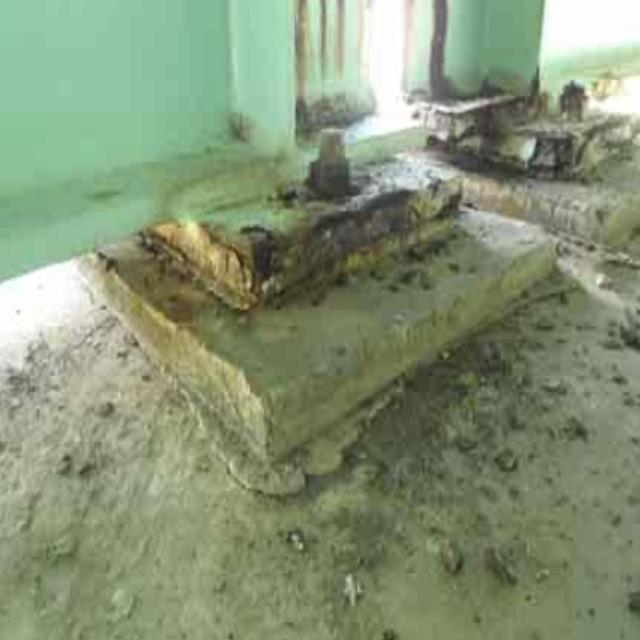corrosion: (196, 49, 578, 297)
